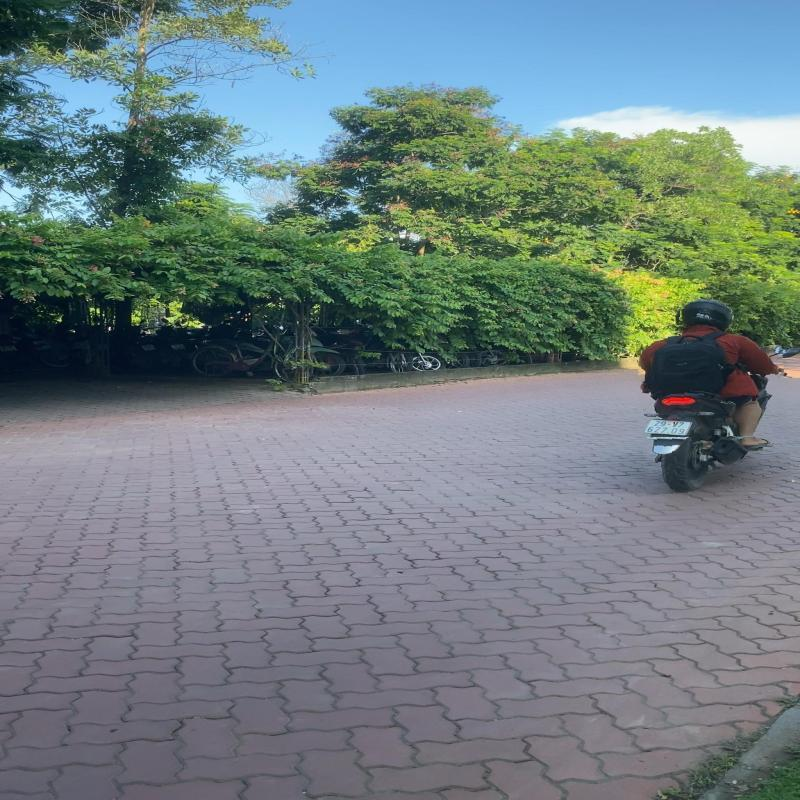helmet: (679, 298, 738, 332)
licenseplate: (644, 420, 694, 438)
motorcyclist: (636, 296, 790, 493)
